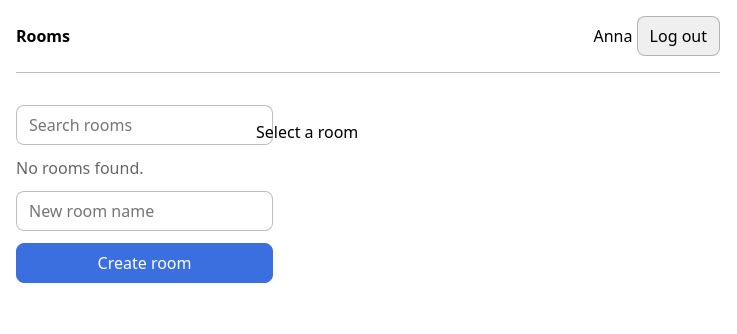
Test: RoomsLayout › shows the server error when a room cannot be created
Type "Random" into the field labelled "New room name". click: (144, 211)
box: [16,191,273,231]
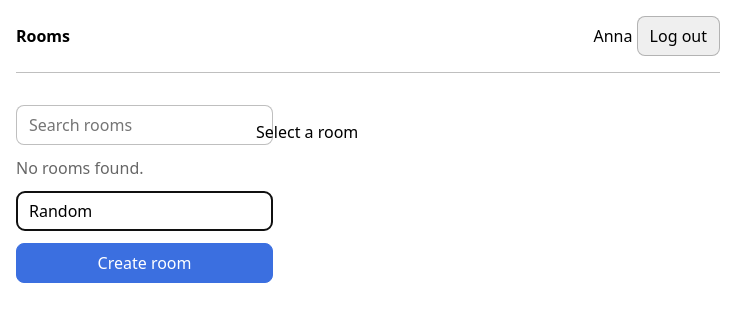
Click the button "Create room". click: (144, 263)
box: [16,243,273,283]
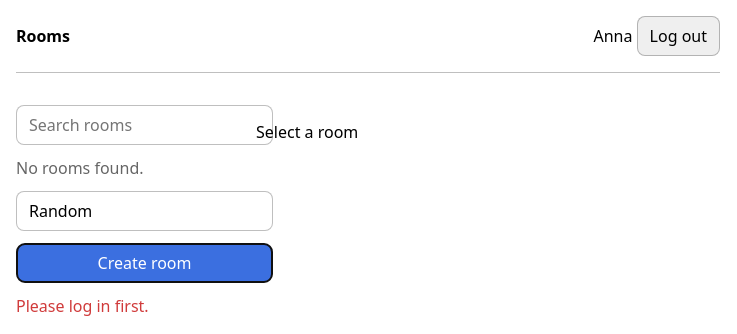
Now the message reads "Please log in first.", box [16,295,149,317]
